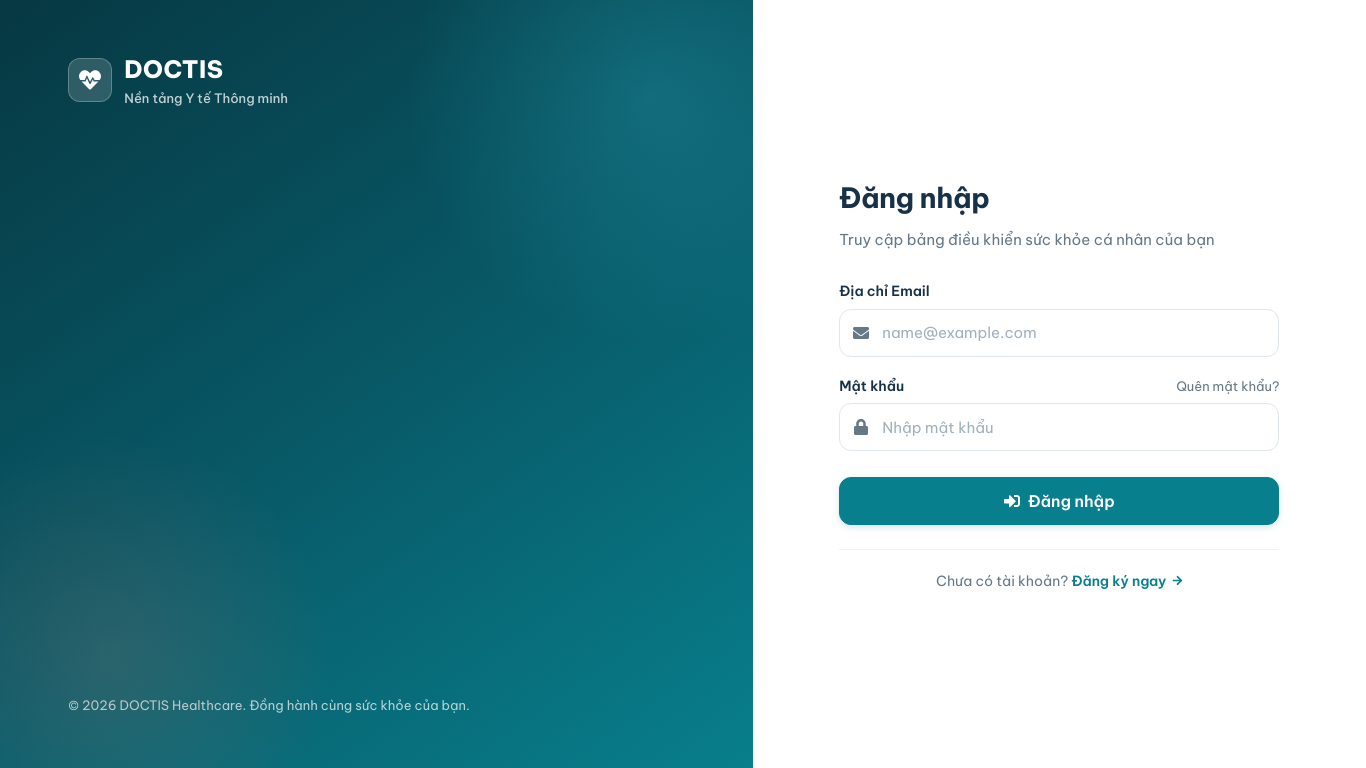
missing token does not create a welcome or navigate
Type "Fixture@example.test" into the field labelled "Địa chỉ Email" at (1059, 333), box [839, 309, 1279, 357]
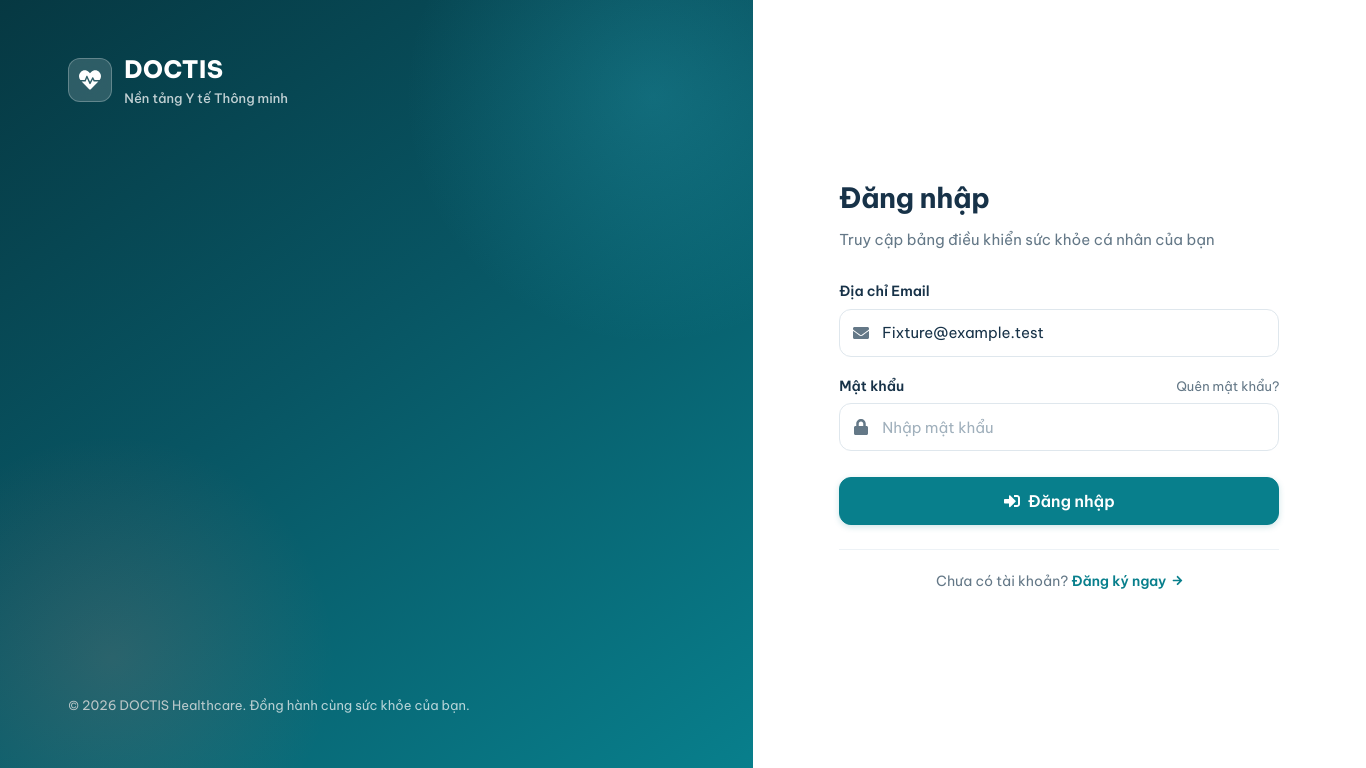
Type "test-only-password" into the password field with id "login-password" at (1059, 427), box [839, 403, 1279, 451]
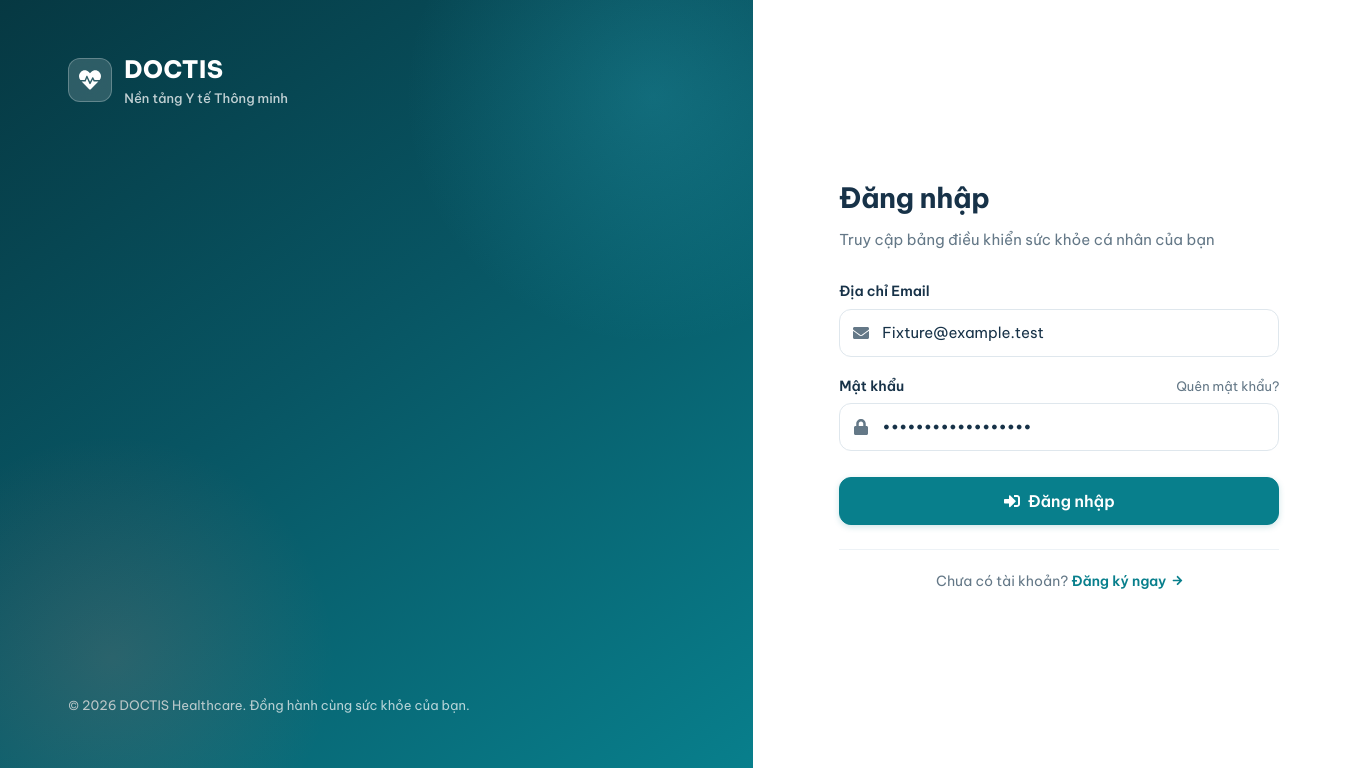
Submit the form, box [839, 280, 1279, 525]
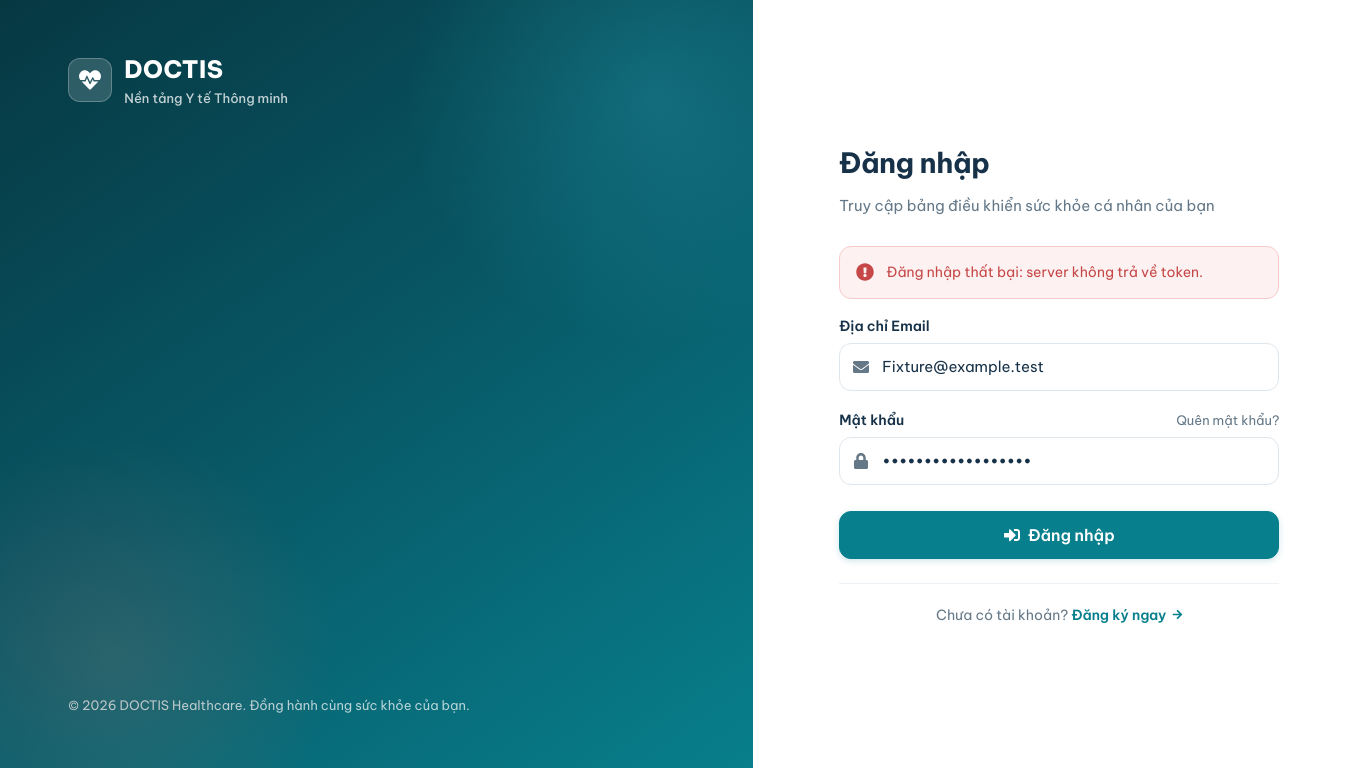
Now the message "Đăng nhập thất bại: server không trả về token." is shown, box [839, 246, 1279, 298]
